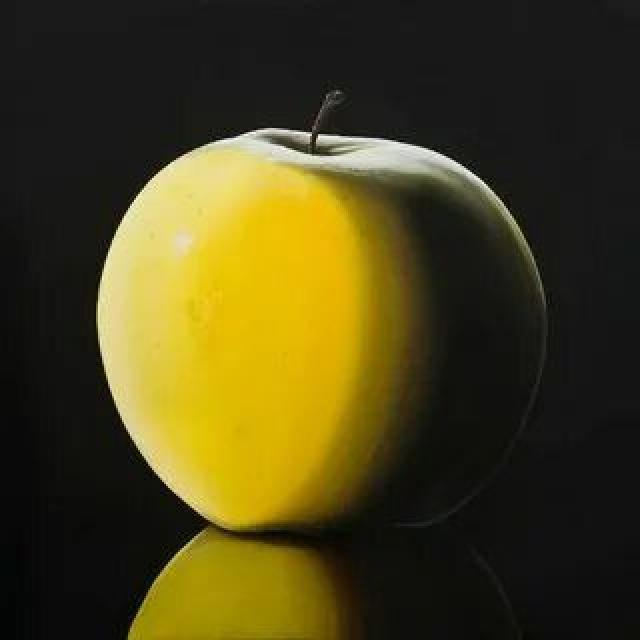Fresh Apple: (83, 118, 535, 540)
